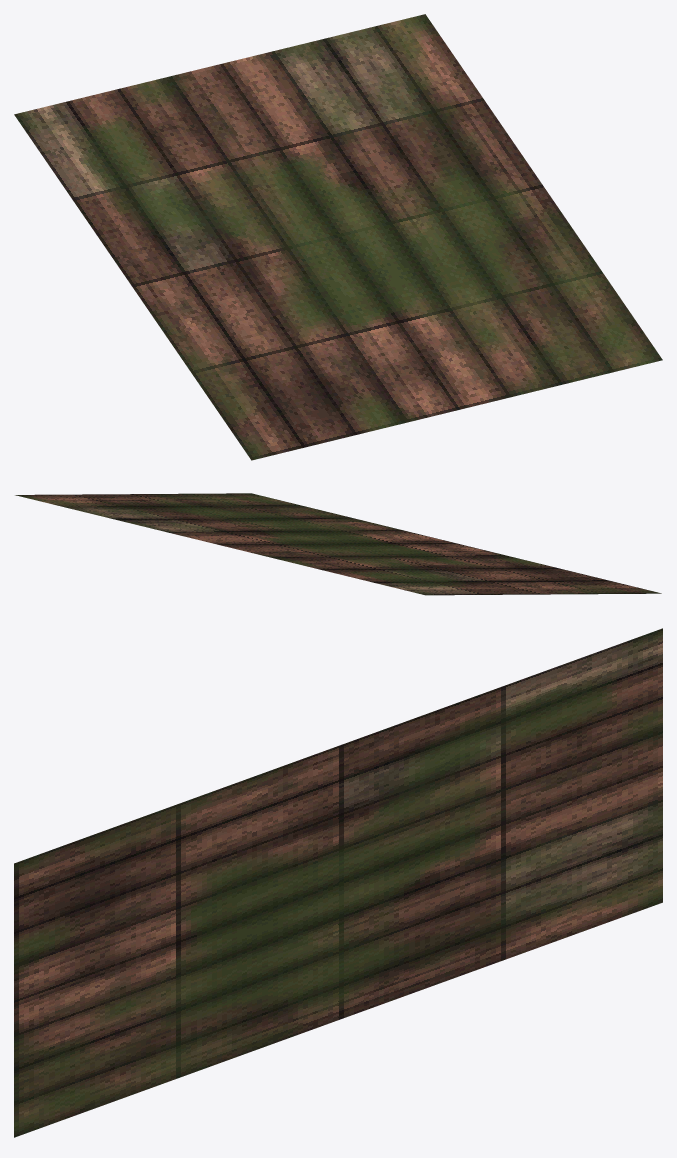
The model's file is roof_slope.gltf.
3 views of the same model, one above another, from view 1: azimuth 30°, elevation 25°; view 2: azimuth 150°, elevation 25°; view 3: azimuth 270°, elevation 25° (orthographic). The views are drawn at different scales.
Parts seen in each view (by area): view 1: roof_slope-col; view 2: roof_slope-col; view 3: roof_slope-col.
Part boxes in pixels (x1,y1,x2,y2): roof_slope-col: [14, 14, 662, 460]; roof_slope-col: [15, 493, 661, 595]; roof_slope-col: [14, 628, 662, 1137].
Size of the model in its own units: 2 by 0.82 by 2.
2 materials, 2 textured.
